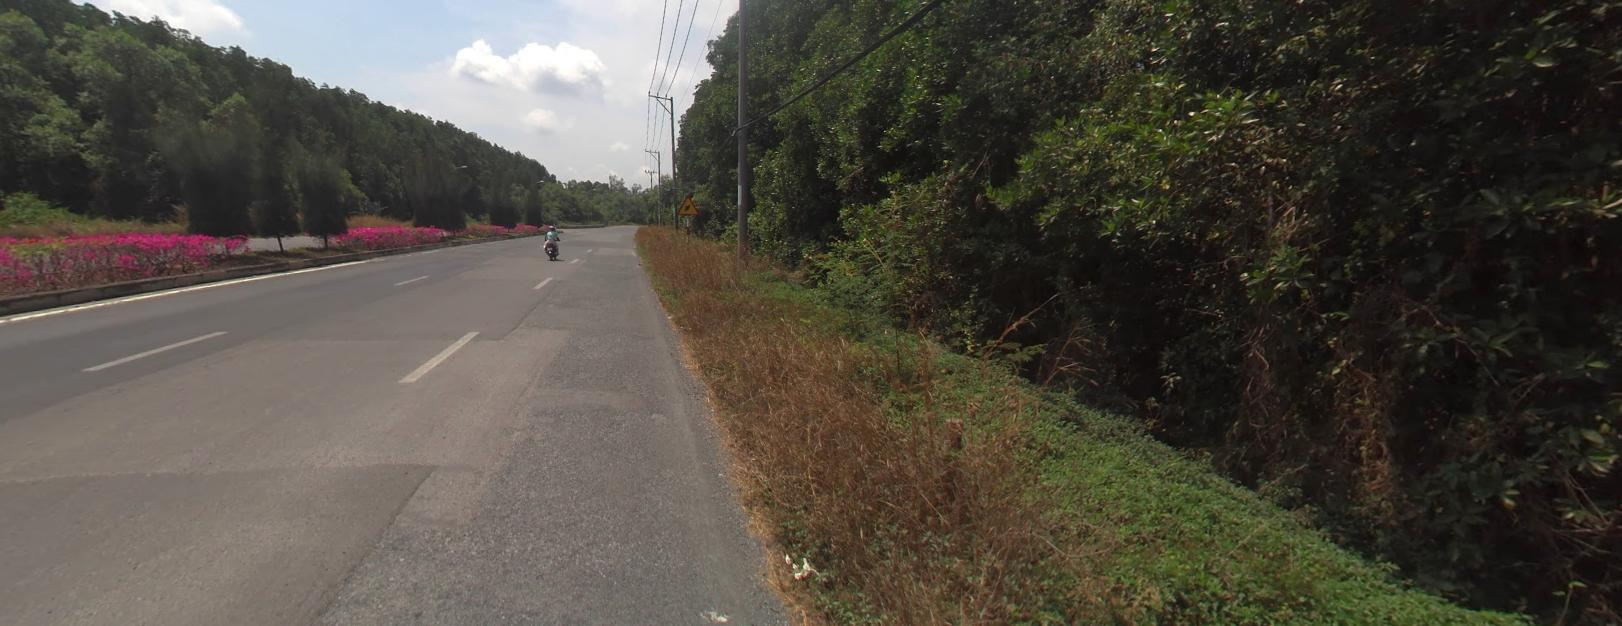Nguy hiem: (676, 193, 699, 213)
